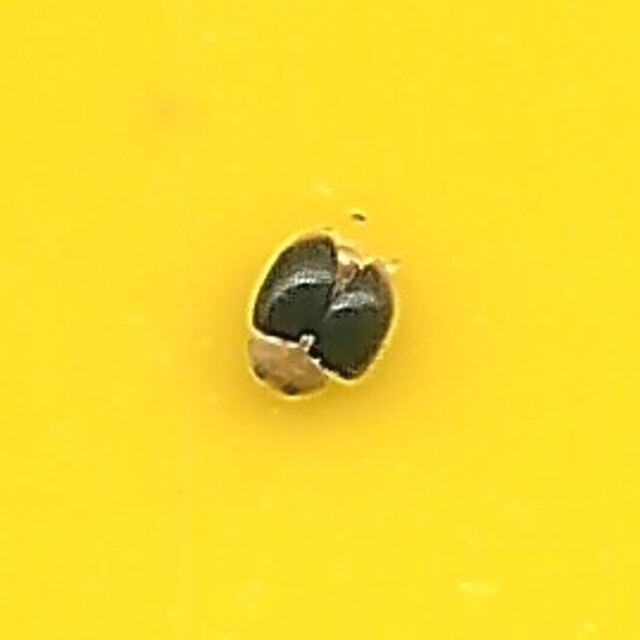Coleoptera: (238, 230, 402, 410)
